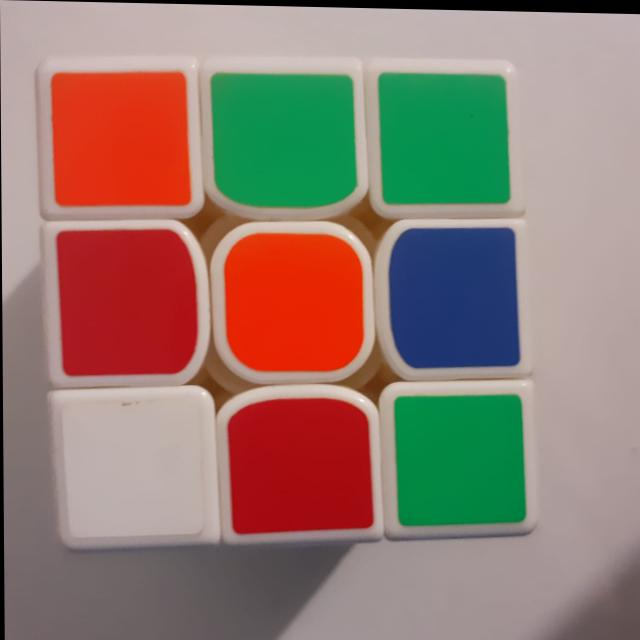Blue: (380, 220, 527, 380)
Green: (200, 61, 365, 216), (388, 385, 534, 539), (371, 65, 516, 212)
Orange: (212, 221, 375, 385), (38, 67, 199, 217)
Red: (43, 224, 206, 383), (222, 390, 379, 546)
White: (48, 390, 220, 553)
